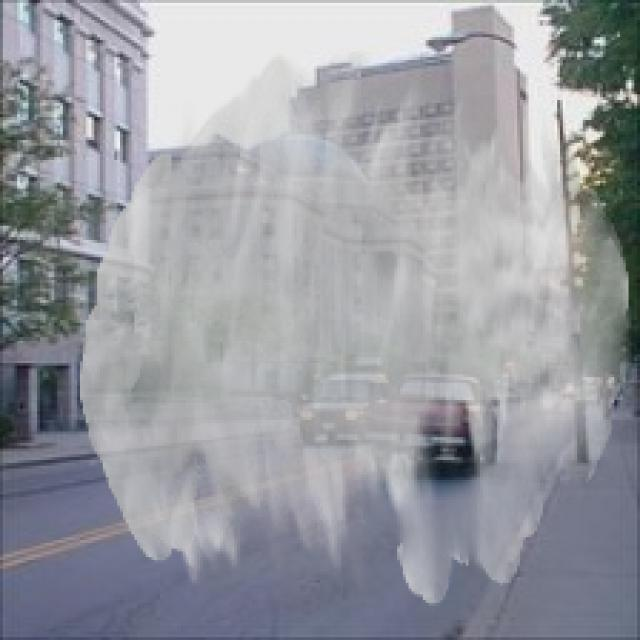smoke: (80, 51, 631, 606)
